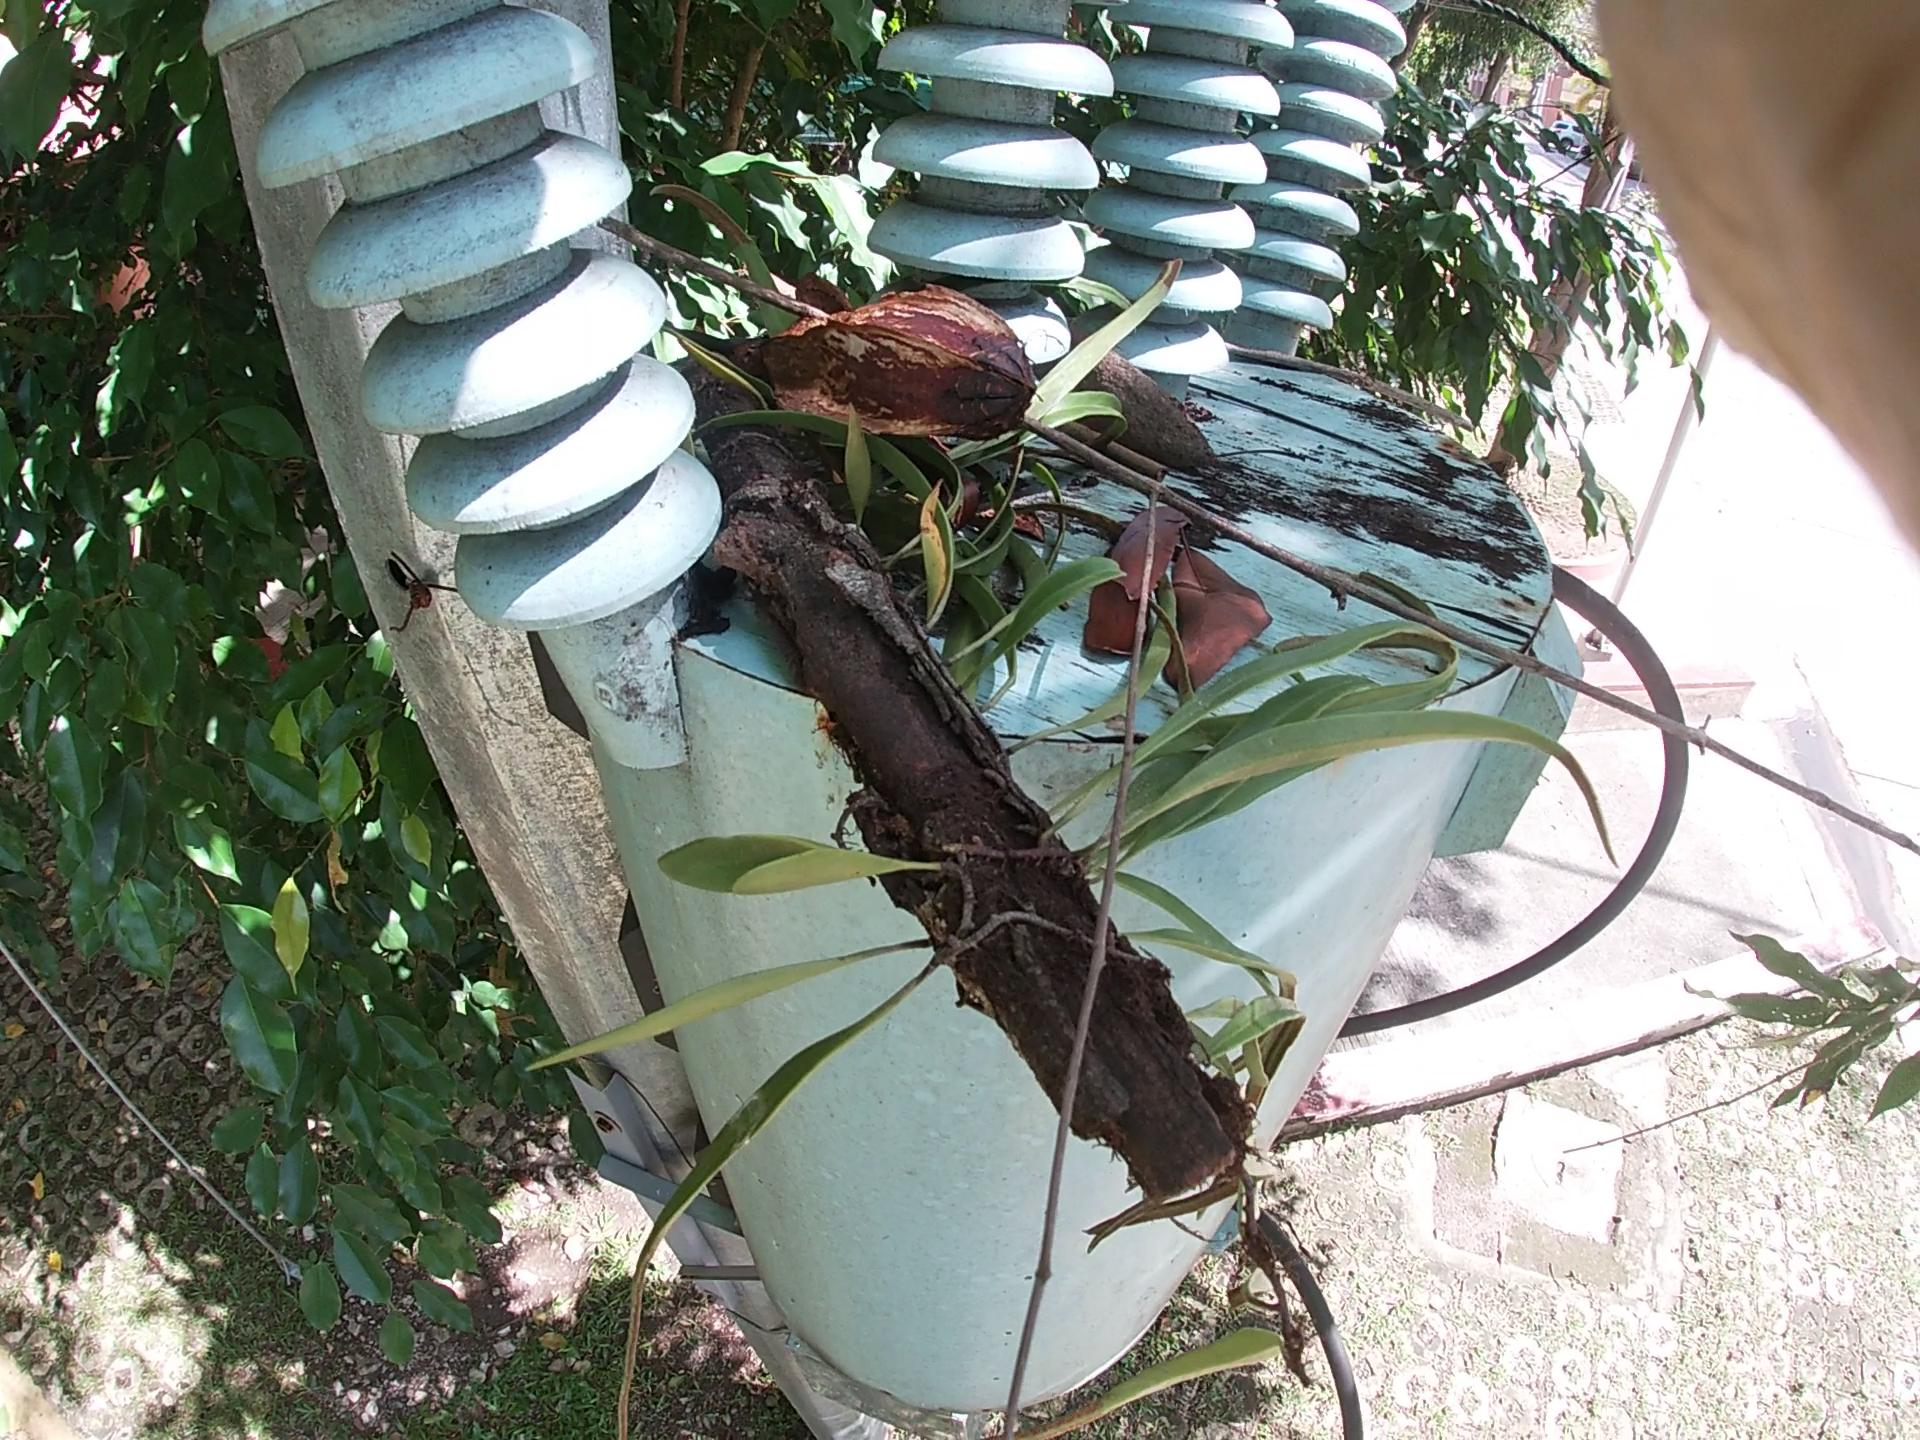branch with leaves: (717, 309, 1231, 1172)
leaf: (1023, 464, 1288, 717)
mahogany fruit: (720, 289, 1054, 517), (1063, 266, 1212, 531)
tree branch: (659, 253, 1757, 740), (1190, 318, 1460, 446)
